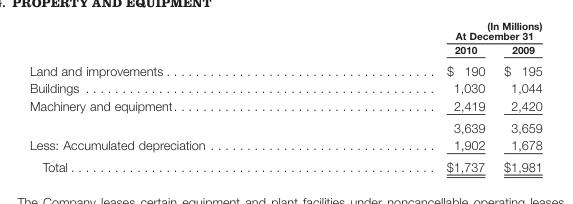table: (29, 29, 541, 173)
table column: (29, 29, 325, 173), (325, 29, 493, 173), (493, 29, 541, 173)
table column header: (29, 29, 541, 58)
table row: (29, 58, 541, 78), (29, 96, 541, 116), (29, 135, 541, 155), (29, 116, 541, 135), (29, 78, 541, 96), (29, 155, 541, 173), (29, 42, 541, 58), (29, 29, 541, 42)
table spanning cell: (325, 29, 541, 42)
